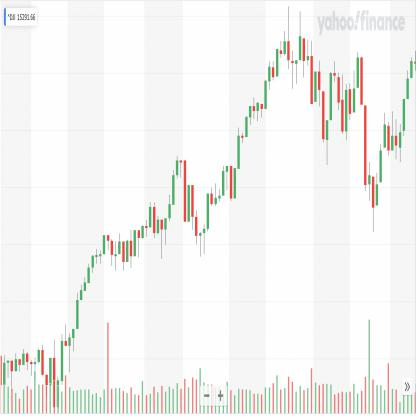Bearish: Evening Star Doji: (329, 59, 340, 124)
Bearish: Tweezer Top: (148, 200, 156, 242)
Bullish: 3 White Soldiers: (398, 68, 410, 166), (375, 109, 386, 209), (68, 290, 80, 376), (402, 54, 413, 138), (164, 168, 175, 248), (167, 154, 179, 224), (72, 282, 83, 354), (75, 273, 87, 334), (83, 253, 94, 292), (80, 260, 90, 302)
Bullish: Morning Star Doji: (110, 229, 121, 277)
